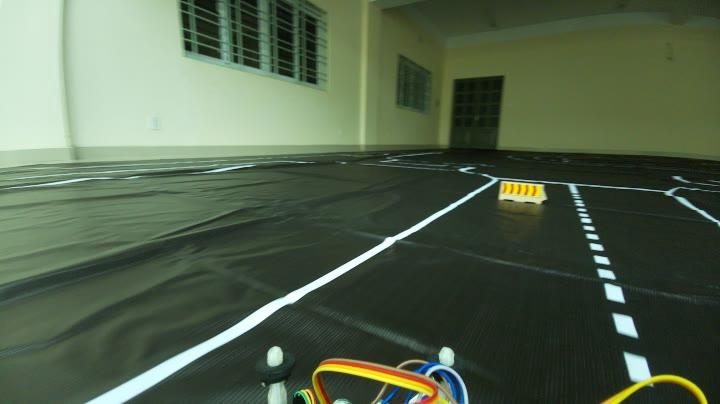roadblock: (489, 177, 551, 203)
